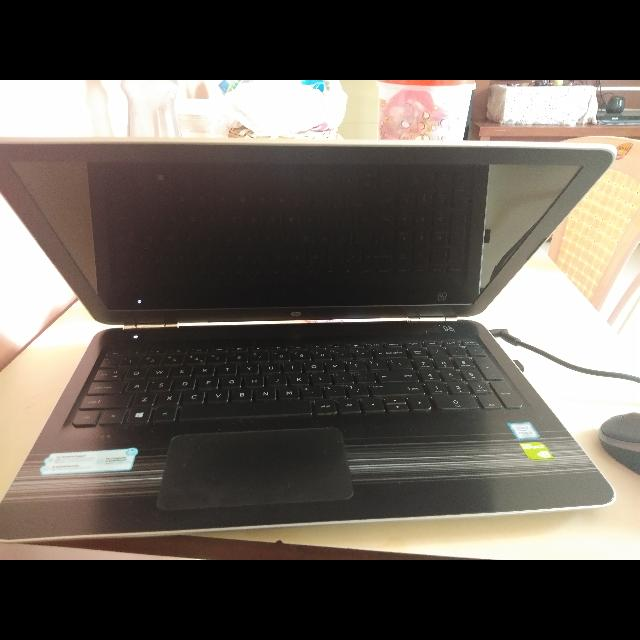Laptop: (1, 132, 637, 548)
